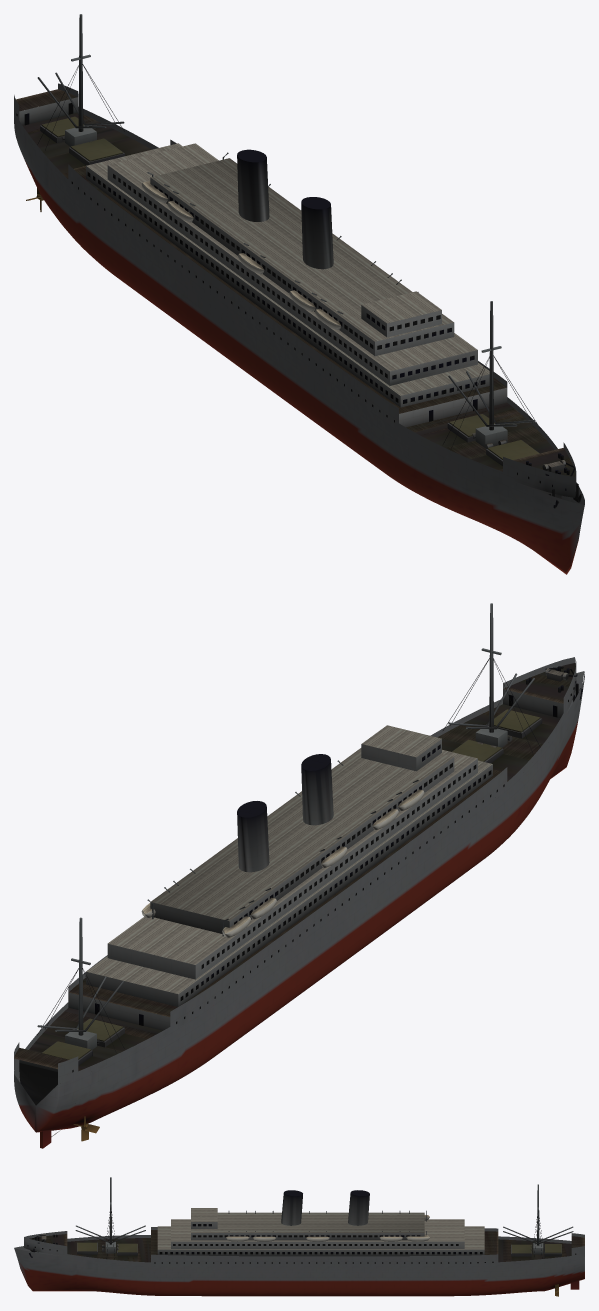
File: model_built.glb
3 renders of one model, top to bottom at view 1: azimuth 30°, elevation 25°; view 2: azimuth 150°, elevation 25°; view 3: azimuth 270°, elevation 25°, orthographic. The views are drawn at different scales.
Parts seen in each view (by area): view 1: main; view 2: main; view 3: main.
Part boxes in pixels (box(x1,y1,x2,y2)): main: box(14, 14, 584, 574); main: box(14, 603, 584, 1148); main: box(14, 1177, 584, 1296).
Size of the model in its own units: 19.92 by 37.56 by 171.
Materials: 2 (2 with a texture image).
